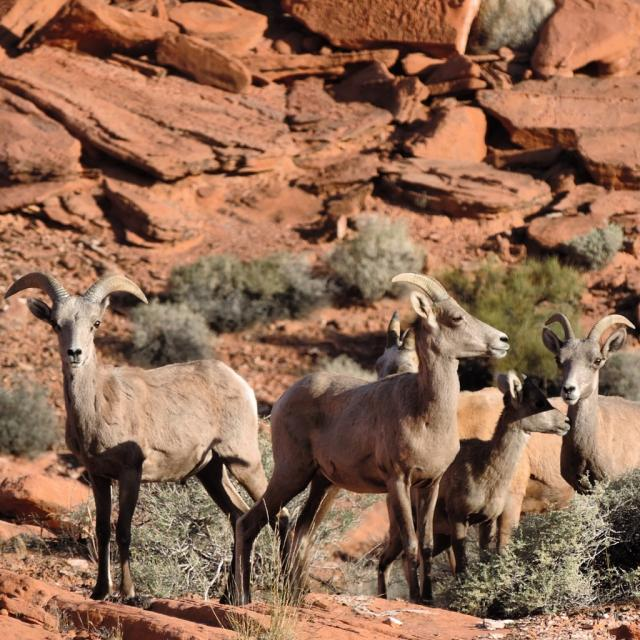Goat: (4, 272, 640, 605)
